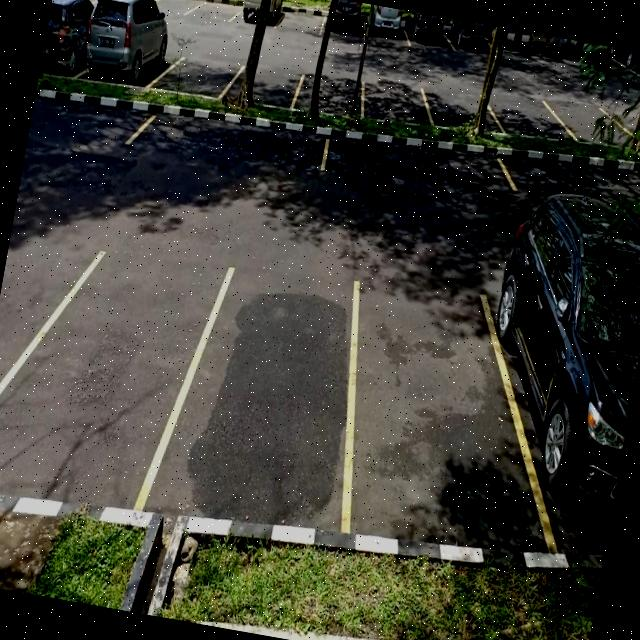empty: (0, 239, 207, 517), (166, 268, 370, 536), (329, 282, 530, 552), (127, 92, 331, 178), (320, 118, 516, 205), (156, 45, 240, 102), (490, 91, 566, 145), (421, 85, 499, 137), (291, 68, 366, 122), (358, 78, 436, 128), (232, 58, 302, 112), (274, 0, 327, 39), (188, 0, 244, 28)
occupied: (490, 247, 640, 563), (78, 3, 177, 92), (320, 0, 370, 43), (233, 0, 286, 30)
